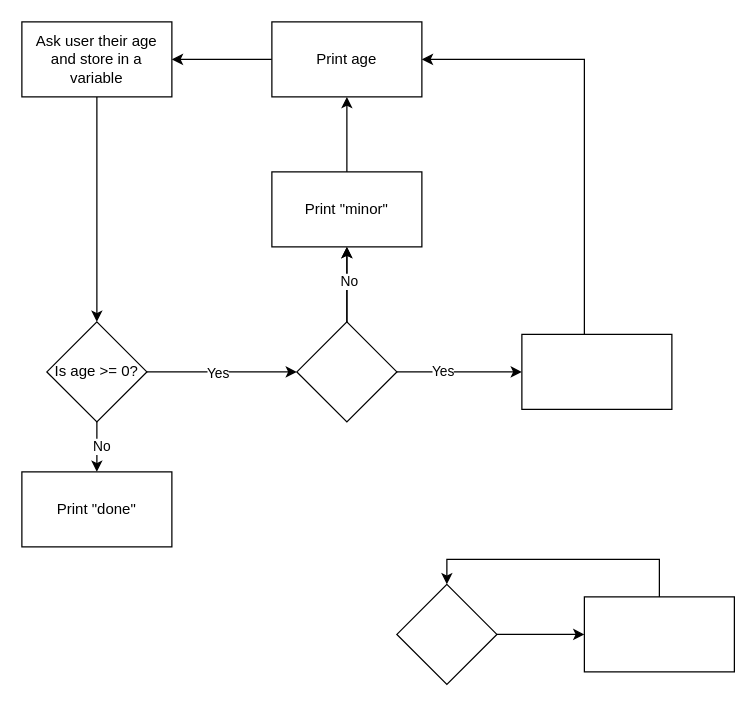
Some shapes in this 756 by 706 pixel diagram are drawn without their labels. The box of each missing label's shape, as (x1, y1, x2, y2) in pixels:
Is age > 17?: (296, 321, 397, 422)
Print "adult": (521, 333, 672, 409)
